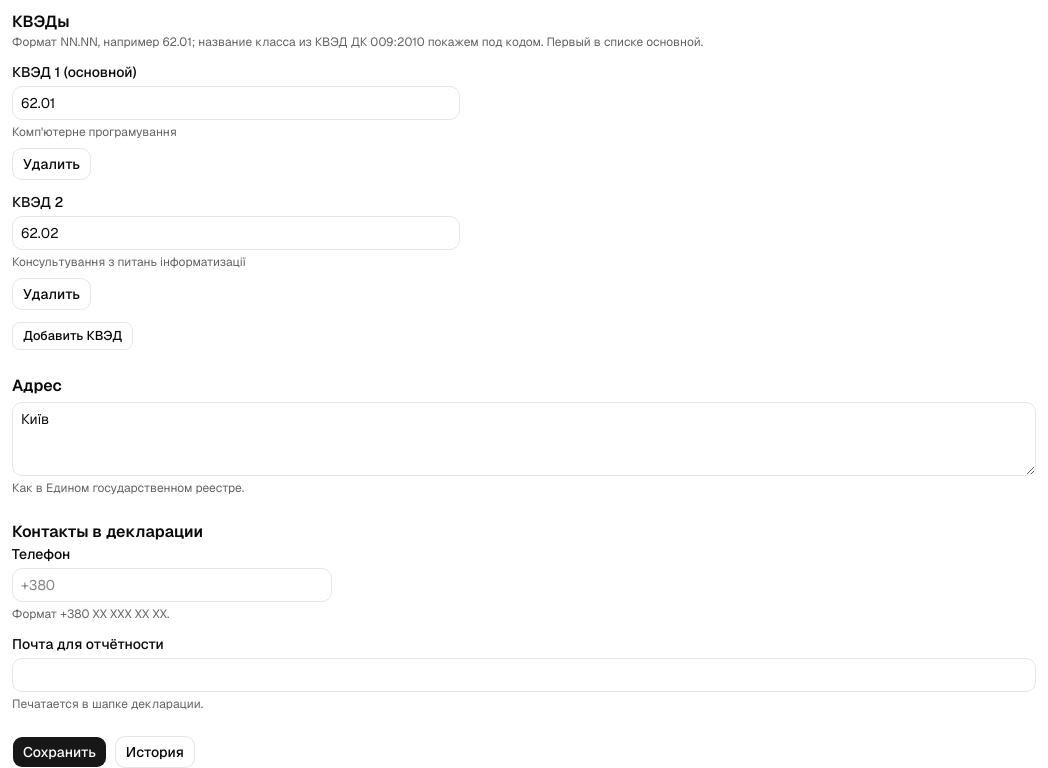
it: DeclarationDetailsForm rejection › words an over-long address and a stray control character in Russian
This screenshot has width=1048, height=768.
(page scrolled)
Click the button "Сохранить" at (59, 752), box x1=12 y1=736 x2=107 y2=767
(page scrolled)
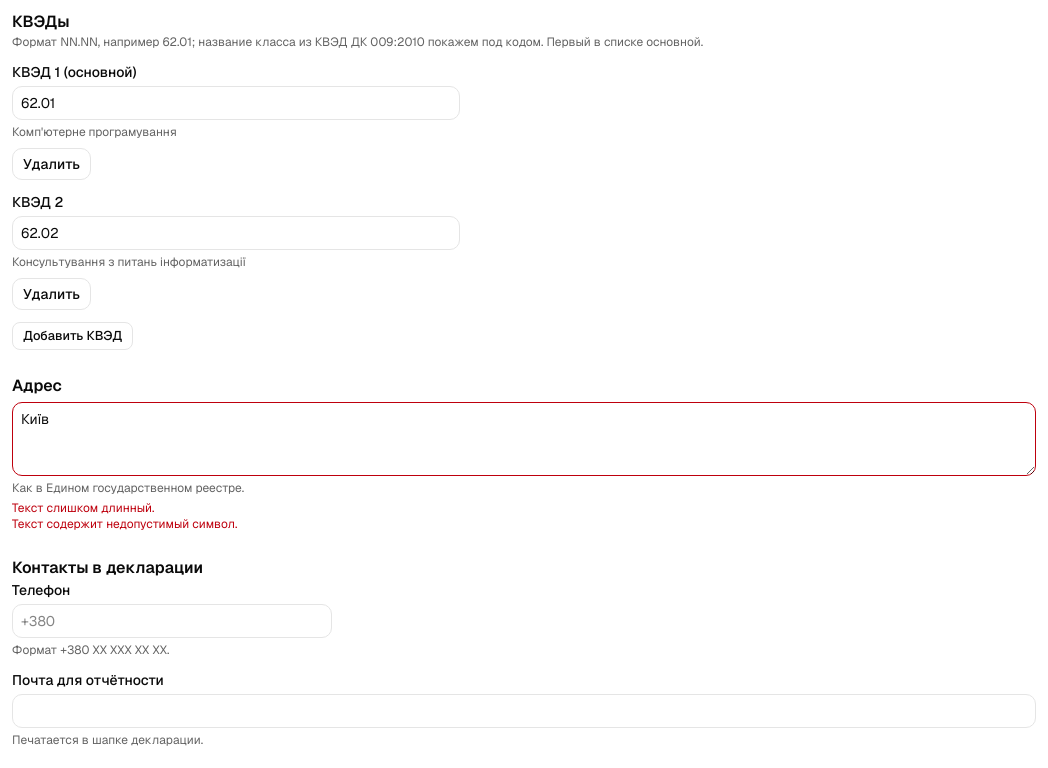
Now the text "Текст слишком длинный." is shown, box x1=12 y1=500 x2=154 y2=516
Now the text "Текст содержит недопустимый символ." is shown, box x1=12 y1=516 x2=237 y2=532
